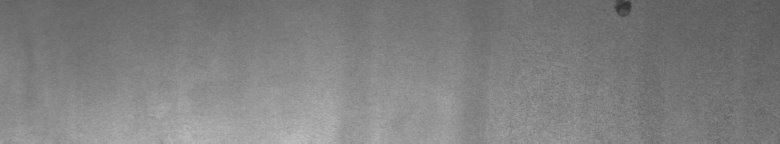fi: (604, 4, 639, 28)
